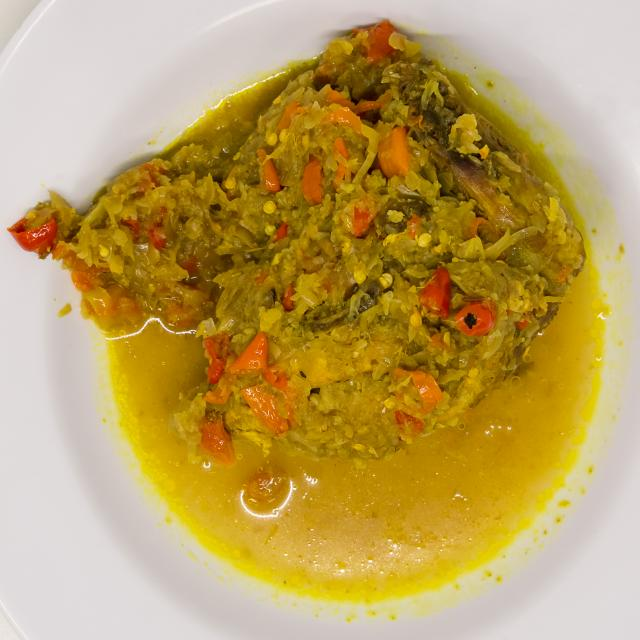Ayam-Betutu: (56, 10, 599, 491)
